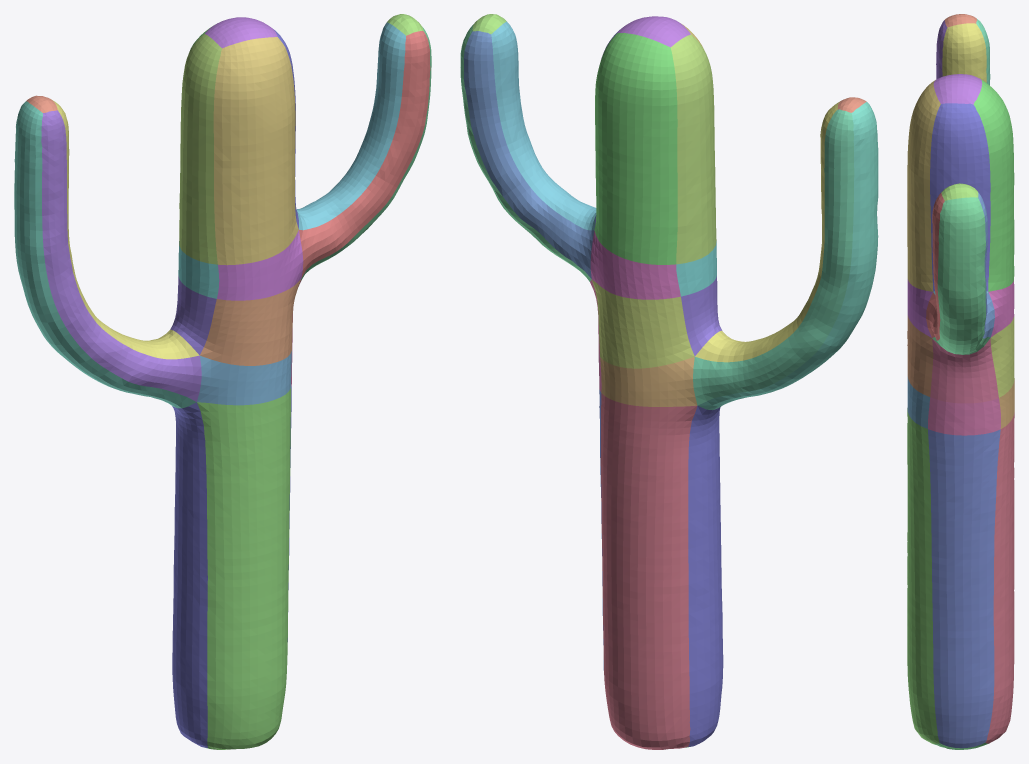
File: 9_cactus_output.obj
The picture shows the model from 3 angles, left to right: view 1: azimuth 30°, elevation 25°; view 2: azimuth 150°, elevation 25°; view 3: azimuth 270°, elevation 25°; orthographic projection. The views are drawn at different scales.
Bounding box in the file's own units: 0.4926 × 0.8228 × 0.1211.
